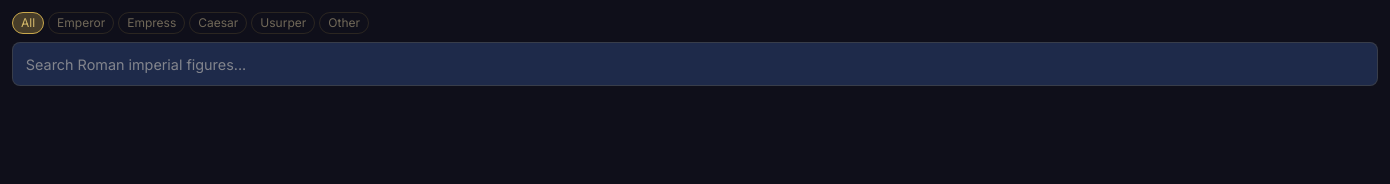
ImperialFigurePicker › searches on focus and lists results
Focus the field with placeholder "Search Roman imperial figures..." at (695, 64), box [12,42,1378,86]
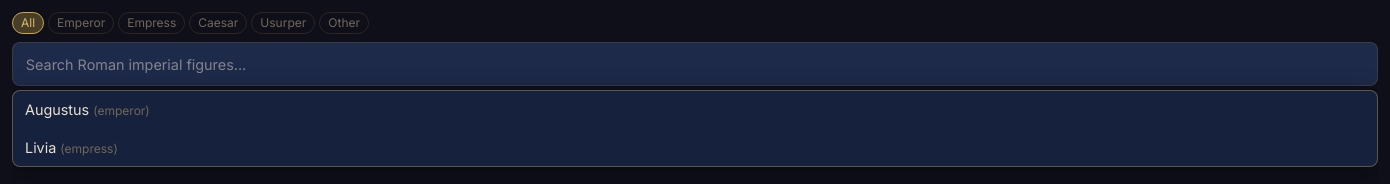
Check: the text "Augustus" is shown, box [25,101,93,118]
Check: the text "Livia" is shown, box [25,139,60,156]
